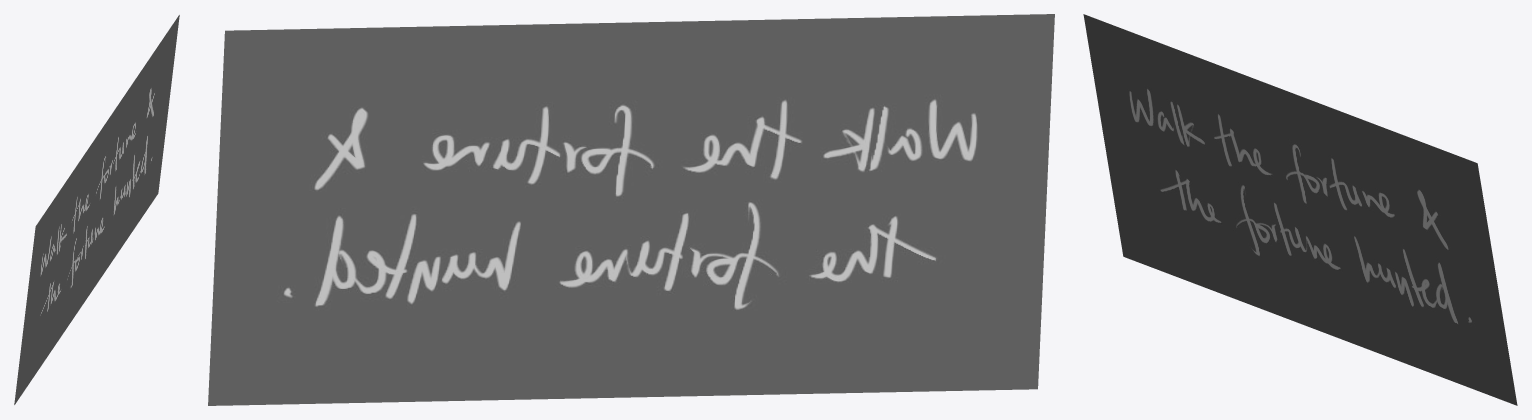
The picture shows the model from 3 angles, left to right: view 1: azimuth 30°, elevation 25°; view 2: azimuth 150°, elevation 25°; view 3: azimuth 270°, elevation 25°; orthographic projection. The views are drawn at different scales.
Parts seen in each view (by area): view 1: Plane.003; view 2: Plane.003; view 3: Plane.003.
Part boxes in pixels (box(x1,y1,x2,y2)): Plane.003: box(14, 15, 179, 404); Plane.003: box(208, 14, 1054, 405); Plane.003: box(1083, 14, 1517, 405).
Size of the model in its own units: 1.99 by 1.38 by 1.91.
1 material, 1 textured.
